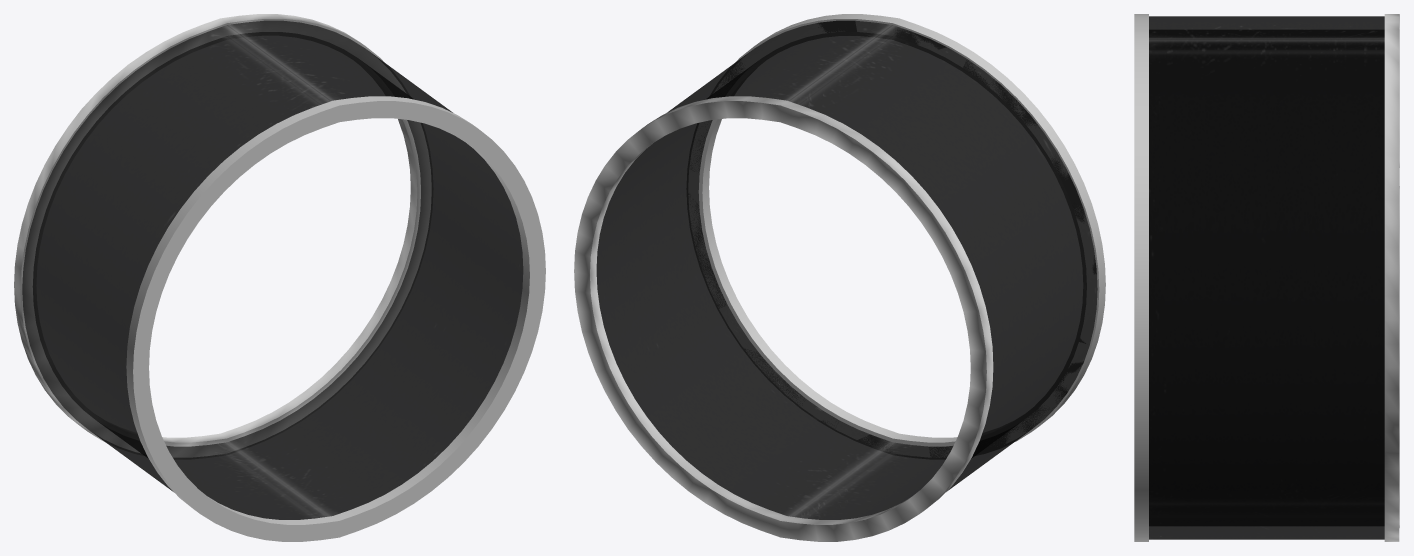
File: glass_2x1_tube.fbx
3 views of the same model, side by side, from view 1: azimuth 30°, elevation 25°; view 2: azimuth 150°, elevation 25°; view 3: azimuth 270°, elevation 25° (orthographic). The views are drawn at different scales.
Parts seen in each view (by area): view 1: glass_2x1_tube; view 2: glass_2x1_tube; view 3: glass_2x1_tube.
Part boxes in pixels (x1,y1,x2,y2): glass_2x1_tube: [14, 14, 545, 541]; glass_2x1_tube: [574, 14, 1105, 541]; glass_2x1_tube: [1134, 14, 1399, 541].
Size of the model in its own units: 90 by 90 by 45.
